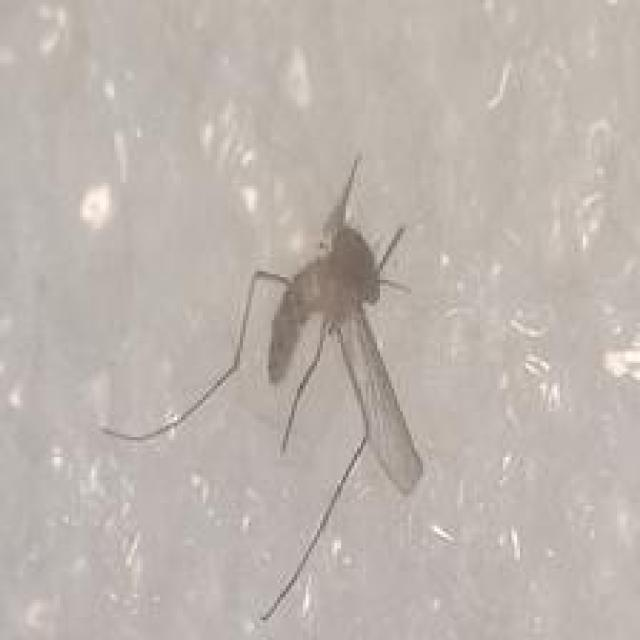Culex: (97, 153, 426, 621)
